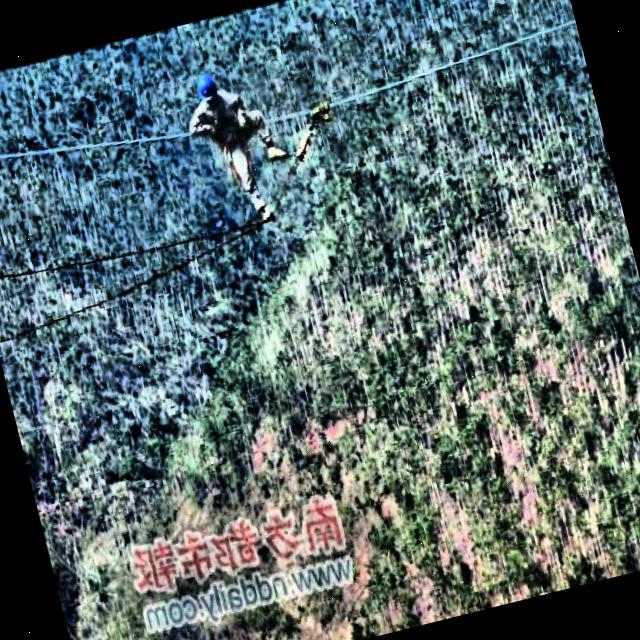helmet: (190, 65, 222, 109)
